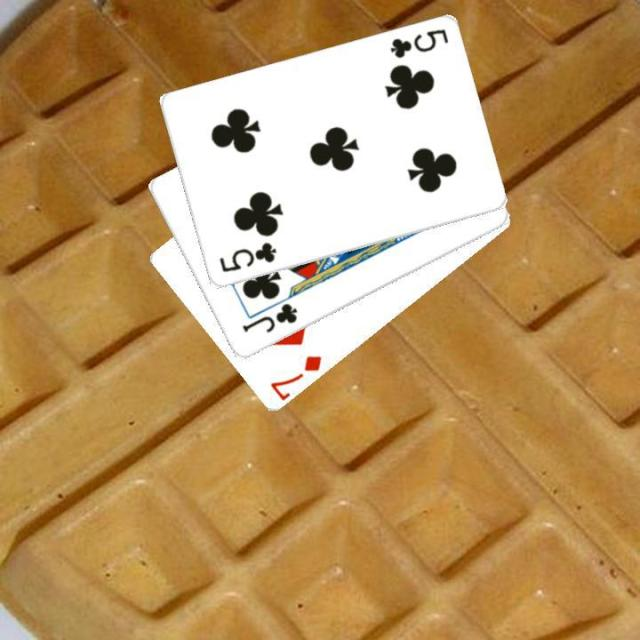5C: (215, 238, 278, 275), (385, 25, 450, 60)
7D: (266, 352, 324, 401)
JC: (238, 300, 300, 335)
